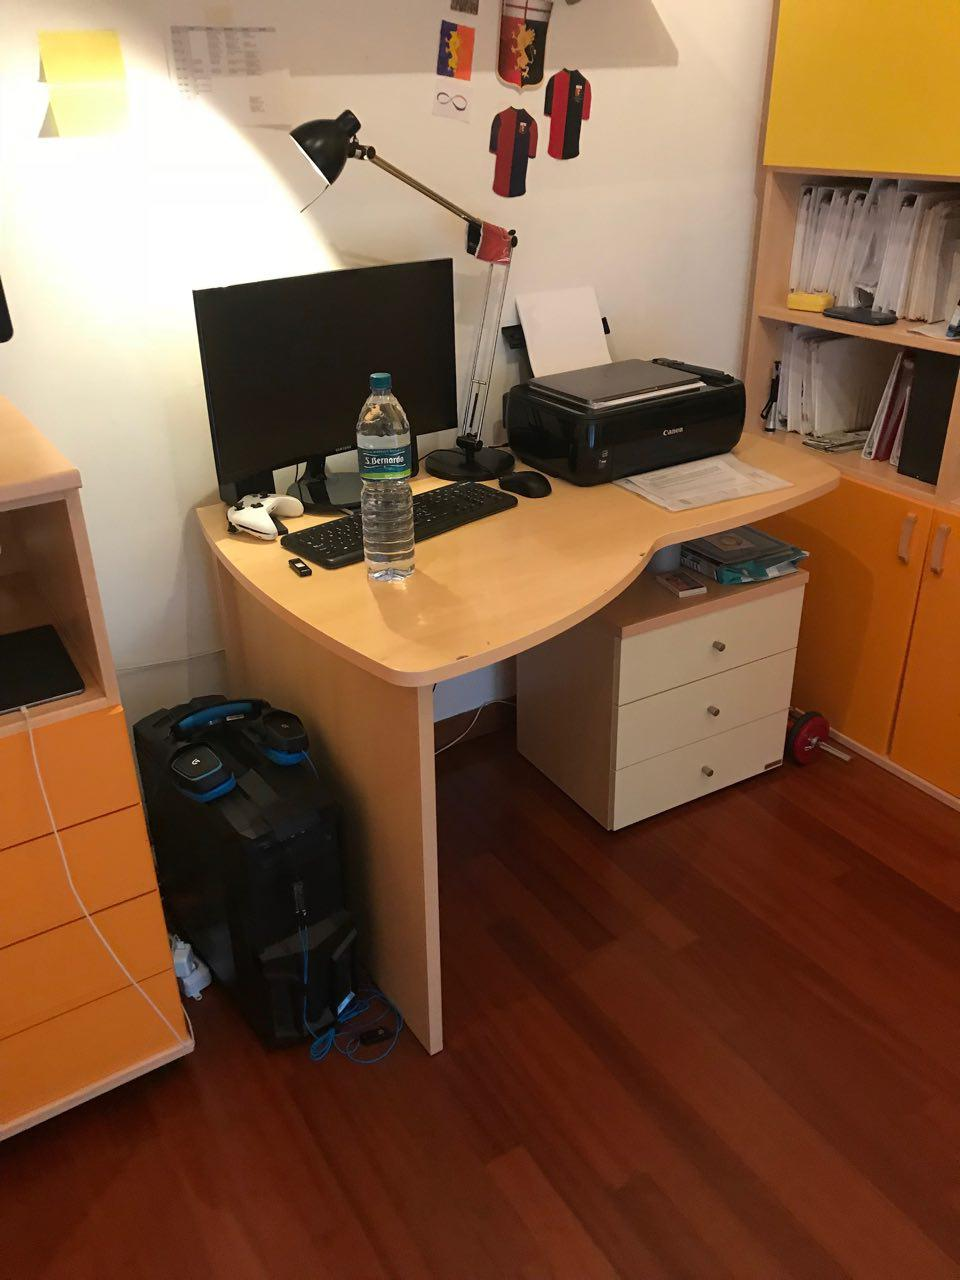san_bernardo: (355, 372, 416, 582)
